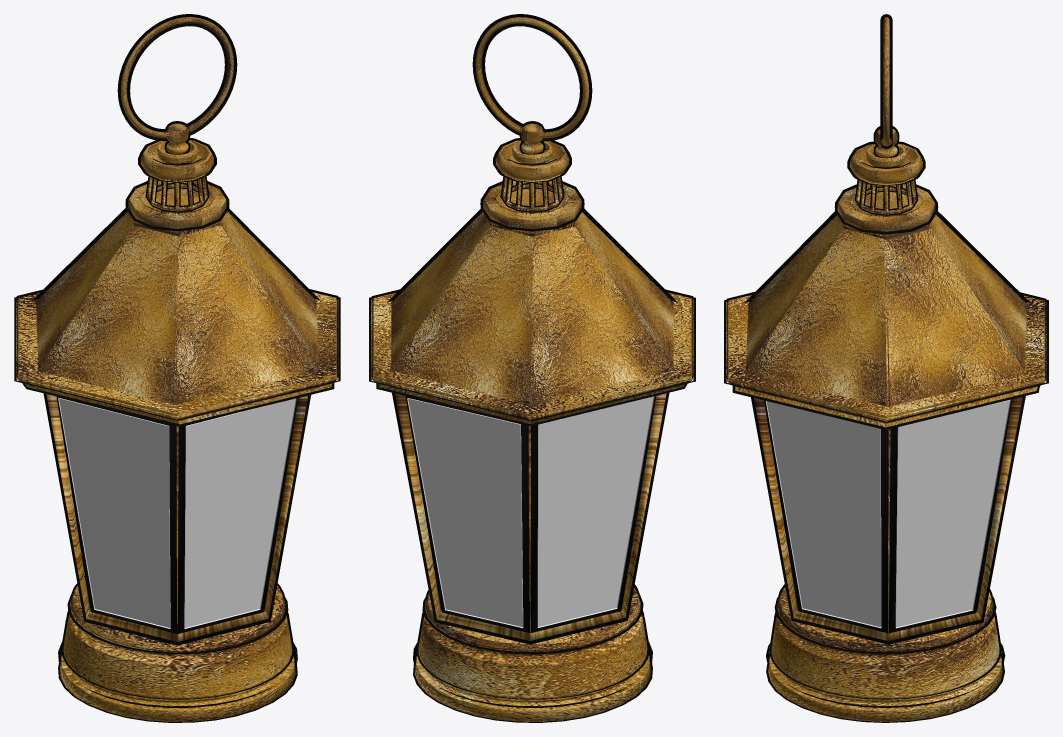
The picture shows the model from 3 angles, left to right: view 1: azimuth 30°, elevation 25°; view 2: azimuth 150°, elevation 25°; view 3: azimuth 270°, elevation 25°; orthographic projection.
Parts seen in each view (by area): view 1: 六梯形头部, 六面玻璃, 底座身体, 金属外围, 六边形盖子, 柱体.上下, 手环, 柱体.中间, 扣手1, 扣手底座; view 2: 六梯形头部, 六面玻璃, 底座身体, 金属外围, 六边形盖子, 柱体.上下, 手环, 柱体.中间, 扣手1, 扣手底座; view 3: 六梯形头部, 六面玻璃, 底座身体, 金属外围, 六边形盖子, 柱体.上下, 手环, 柱体.中间, 扣手1, 扣手底座.
Boxes of the visible parts, left/top/right/bottom form: 六梯形头部: left=32, top=208, right=320, bottom=405; 六面玻璃: left=58, top=397, right=296, bottom=628; 底座身体: left=58, top=583, right=297, bottom=722; 金属外围: left=43, top=393, right=310, bottom=645; 六边形盖子: left=14, top=289, right=340, bottom=426; 柱体.上下: left=125, top=138, right=229, bottom=231; 手环: left=117, top=14, right=237, bottom=141; 柱体.中间: left=145, top=176, right=209, bottom=212; 扣手1: left=164, top=121, right=190, bottom=154; 扣手底座: left=157, top=141, right=197, bottom=164; 六梯形头部: left=387, top=208, right=677, bottom=406; 六面玻璃: left=407, top=396, right=654, bottom=628; 底座身体: left=413, top=584, right=652, bottom=722; 金属外围: left=392, top=392, right=669, bottom=644; 六边形盖子: left=369, top=289, right=695, bottom=426; 柱体.上下: left=480, top=138, right=584, bottom=231; 手环: left=472, top=14, right=592, bottom=141; 柱体.中间: left=500, top=176, right=564, bottom=212; 扣手1: left=519, top=121, right=545, bottom=154; 扣手底座: left=512, top=141, right=552, bottom=164; 六梯形头部: left=744, top=211, right=1030, bottom=407; 六面玻璃: left=765, top=399, right=1010, bottom=628; 底座身体: left=766, top=584, right=1005, bottom=722; 金属外围: left=751, top=396, right=1025, bottom=644; 六边形盖子: left=724, top=292, right=1048, bottom=429; 柱体.上下: left=834, top=141, right=938, bottom=234; 手环: left=880, top=14, right=892, bottom=149; 柱体.中间: left=854, top=179, right=918, bottom=215; 扣手1: left=873, top=126, right=899, bottom=158; 扣手底座: left=866, top=144, right=906, bottom=167.
Bounding box in the file's own units: 2.37 × 4.55 × 2.05.
Materials: 5 (2 with a texture image).
